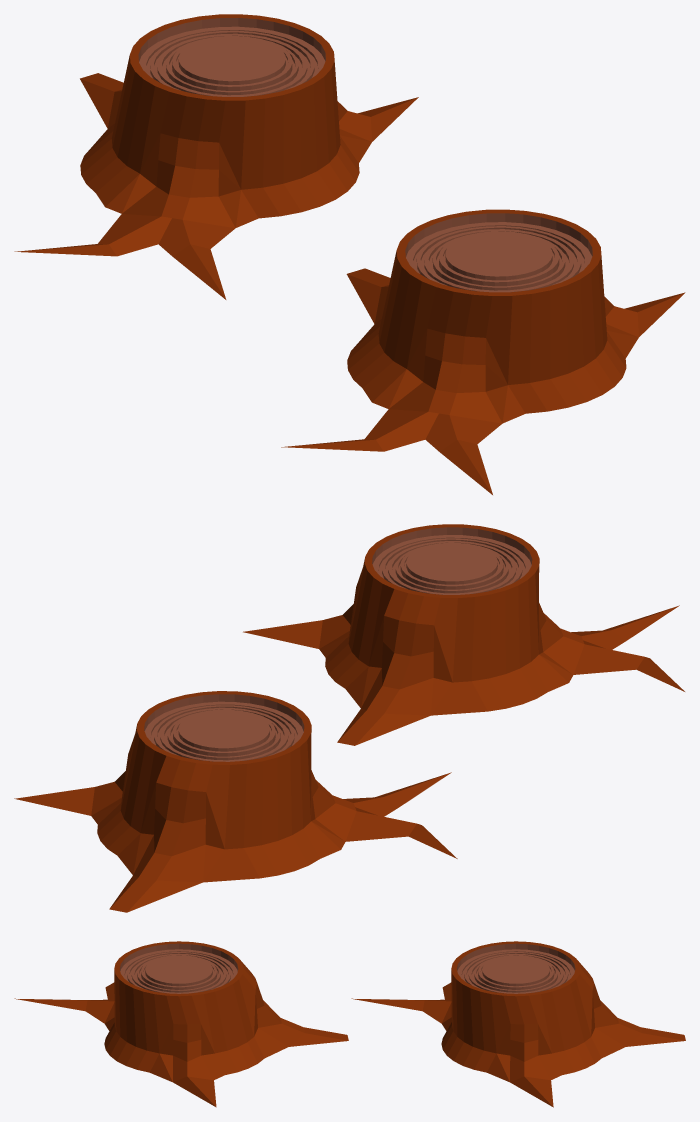
The model's file is closein.fbx.
3 views of the same model, one above another, from view 1: azimuth 30°, elevation 25°; view 2: azimuth 150°, elevation 25°; view 3: azimuth 270°, elevation 25° (orthographic). The views are drawn at different scales.
Parts seen in each view (by area): view 1: Cylinder, Cylinder.001; view 2: Cylinder, Cylinder.001; view 3: Cylinder, Cylinder.001.
Boxes of the visible parts, x1,y1,x2,y2 form: Cylinder: (14, 14, 418, 299); Cylinder.001: (281, 209, 685, 494); Cylinder: (14, 691, 457, 912); Cylinder.001: (243, 524, 684, 745); Cylinder: (351, 941, 685, 1107); Cylinder.001: (14, 941, 348, 1107).
Bounding box in the file's own units: 344 × 81.03 × 685.
